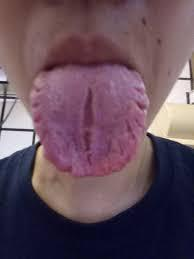liewenshe: (78, 86, 95, 156), (130, 84, 150, 129)
pangdashe: (30, 65, 150, 177)
